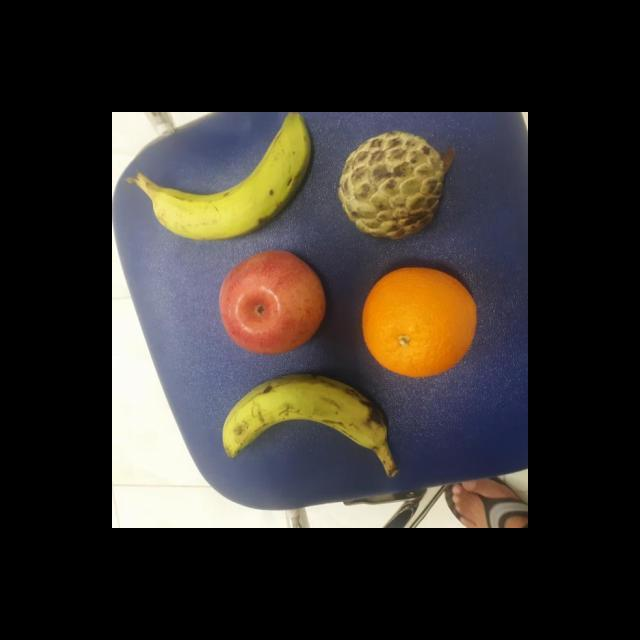Sakya fruit: (336, 128, 444, 242)
apple: (216, 248, 328, 356)
banana: (144, 112, 316, 243), (220, 372, 393, 464)
orange: (360, 266, 478, 378)
